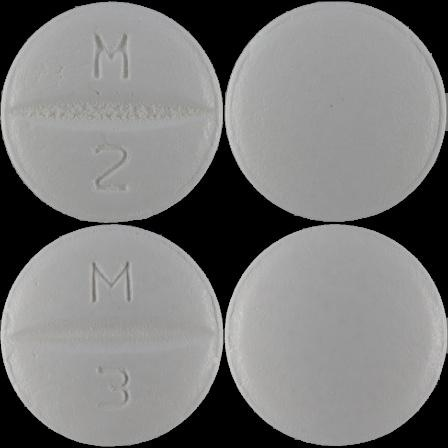55111-467: (0, 0, 224, 224)
